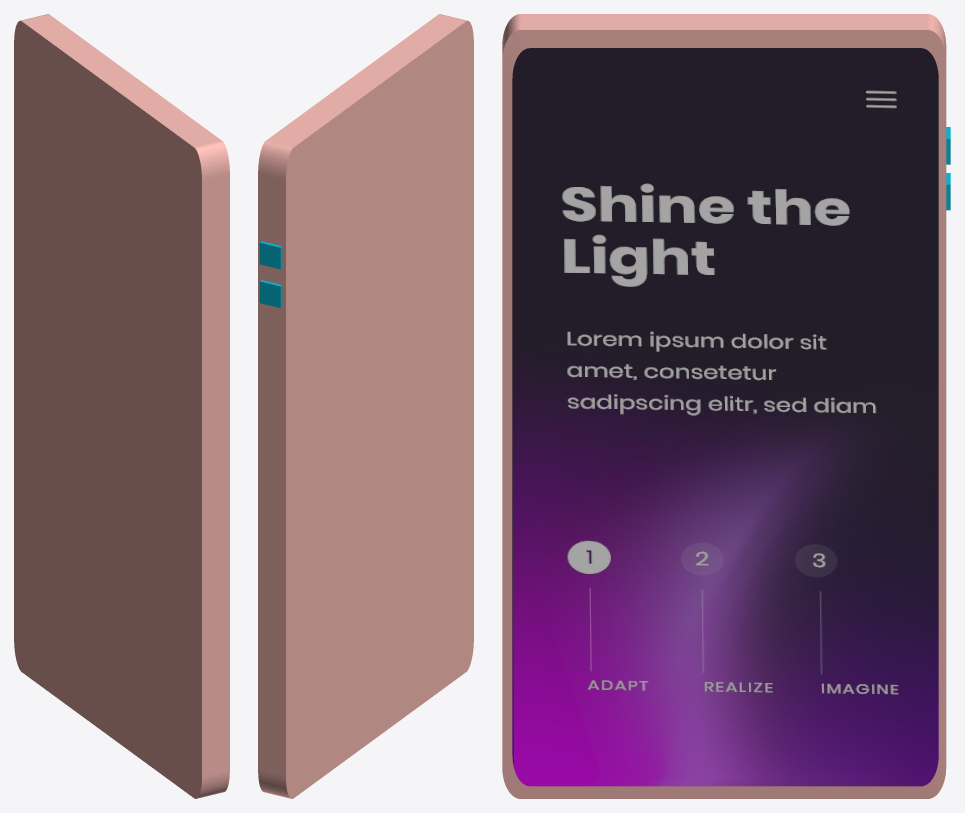
File: blenderPhone.gltf
3 views of the same model, side by side, from view 1: azimuth 30°, elevation 25°; view 2: azimuth 150°, elevation 25°; view 3: azimuth 270°, elevation 25° (orthographic). The views are drawn at different scales.
Parts seen in each view (by area): view 1: Phone; view 2: Phone, Buttons; view 3: Screen, Phone.
Part boxes in pixels (x1,y1,x2,y2): Phone: (14,14,229,798); Phone: (258,14,473,798); Buttons: (259,241,282,307); Screen: (512,48,938,786); Phone: (502,14,946,798).
Bounding box in the file's own units: 0.1734 × 3.82 × 2.02.
3 materials, 1 textured.
